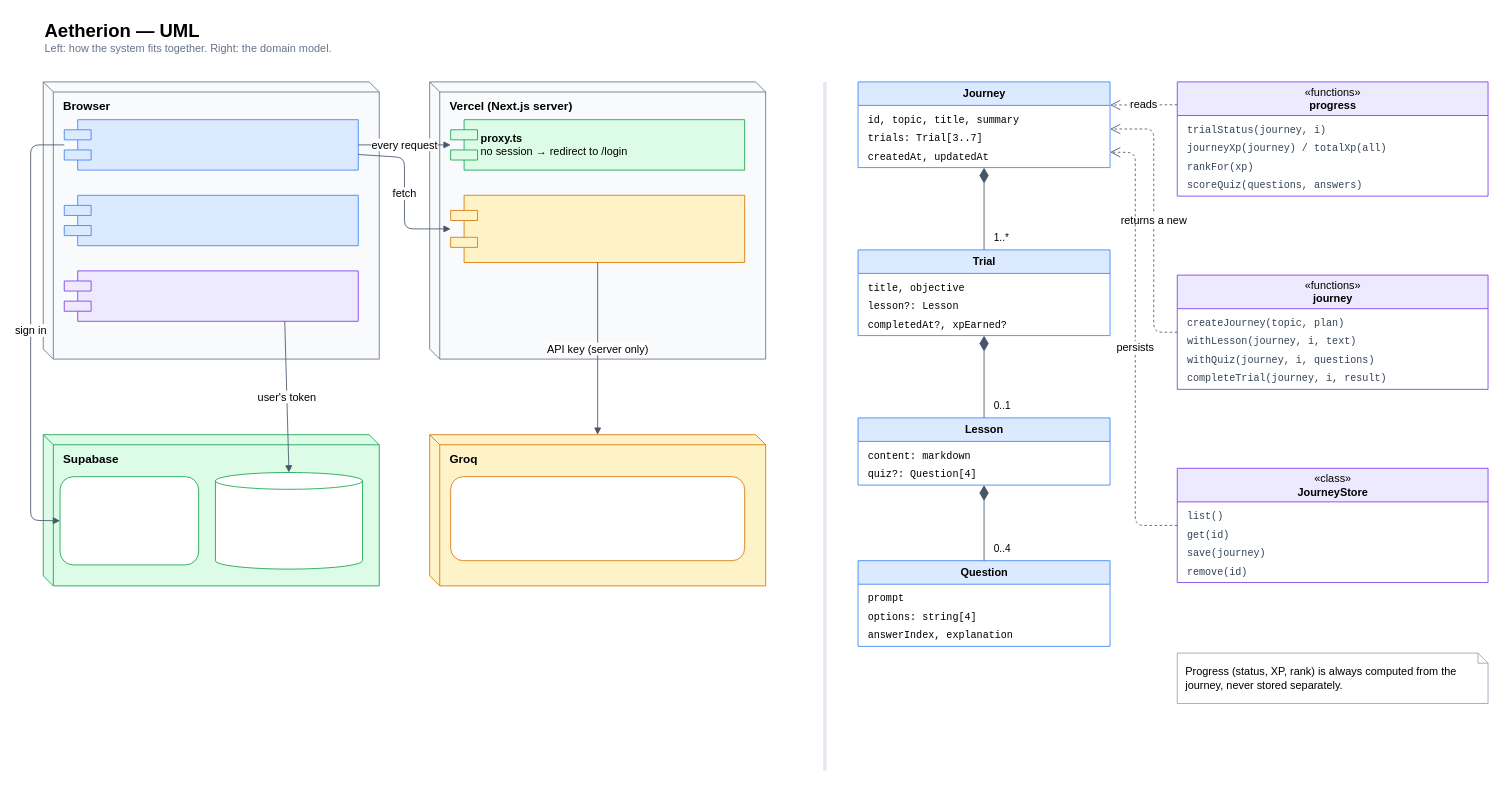
Image size: 1503x786. Some labels were removed from this diagram. The centre of each missing label's shape, as x and y in pixels:
AI routes /api/journey · lesson · quiz · chat check user → validate → call AI: pixel 597 228
Auth email + password: pixel 129 520
Holocron three.js scene (drag to spin): pixel 210 220
JourneyStore reads / writes your journeys: pixel 210 295
openai/gpt-oss-120b lesson text · quiz JSON · chat: pixel 597 518
Pages /login · / · /journey/[id] · …/trial/[n]: pixel 210 144
Postgres journeys table RLS: own rows only: pixel 288 520
